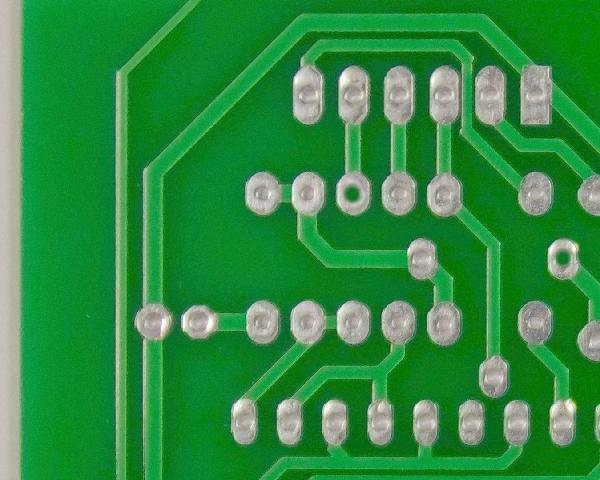missing hole: (541, 232, 588, 285), (332, 166, 374, 220)
